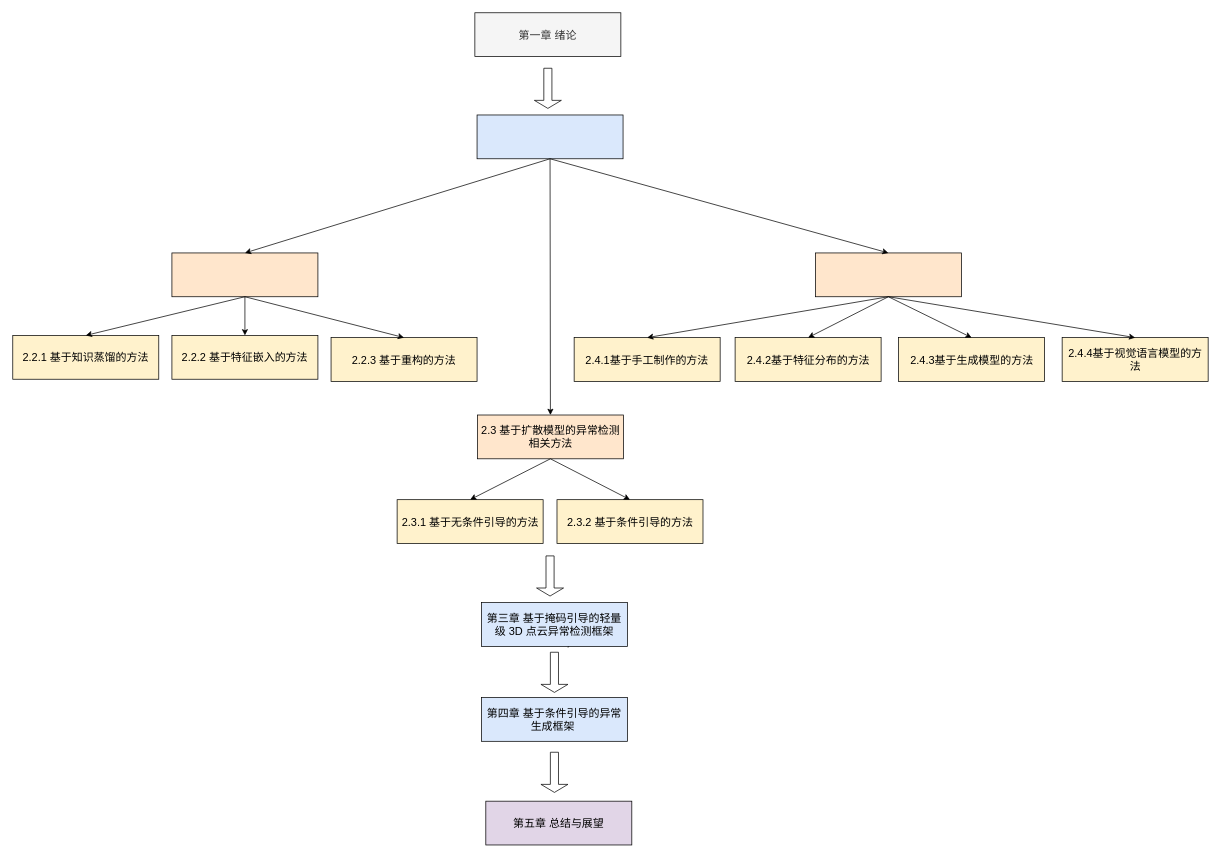
Image size: 1221x858. Some labels were removed from this diagram. The shapes that lost their labels are listed below. From the top down, each one's box as (x1, y1, x2, y2) in pixels, then its label:
(476, 114, 623, 159): 第二章 相关工作
(171, 252, 318, 297): 2.2 多模态异常检测相关方法
(815, 252, 961, 297): 2.4异常生成相关方法
